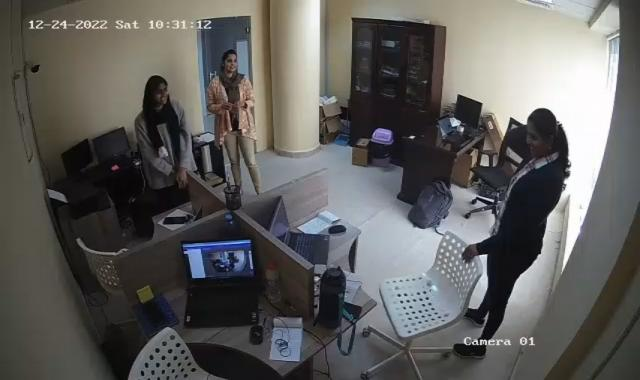no_hairnet: (526, 107, 556, 155), (143, 72, 169, 106), (219, 49, 240, 77)
